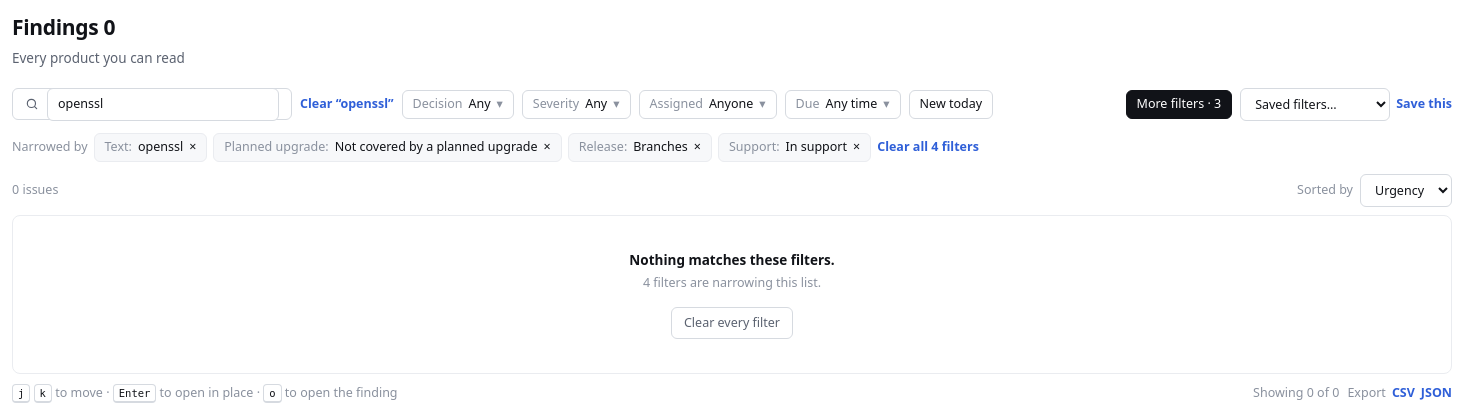
Scenario: the findings search box › empties when the term leaves the address
Expected: the field named "Find a component" holds "openssl", [47,88,279,121]
Click the button "Clear all 4 filters".
click(928, 147)  # box [877,138,979,157]
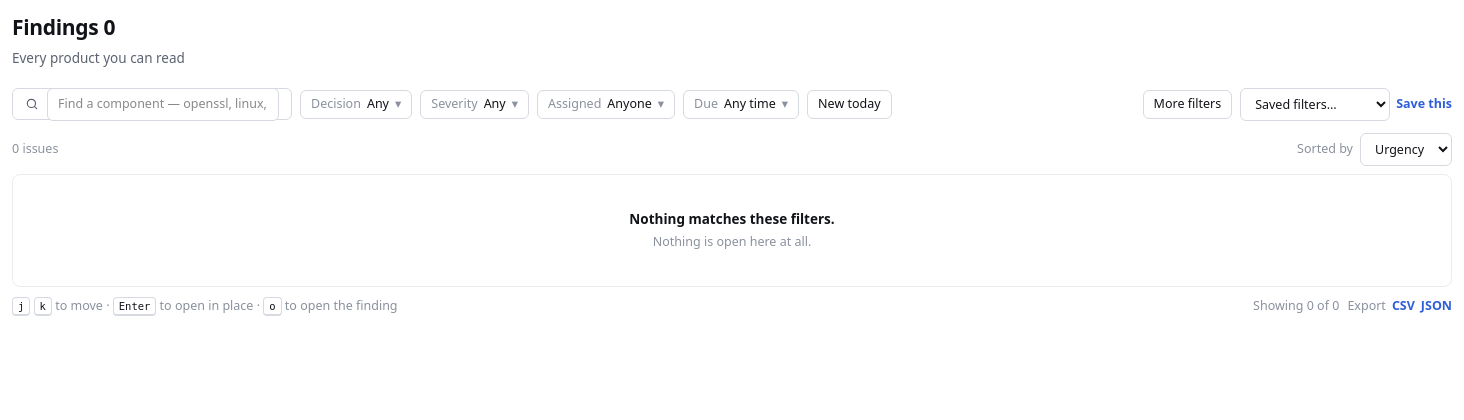
Expected: the field with placeholder "Find a component — openssl, linux, python…" is empty, [47,88,279,121]
